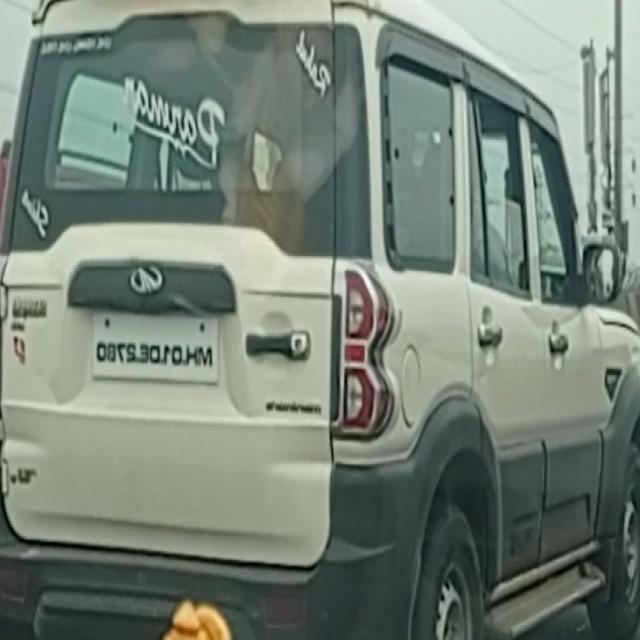license_plate: (89, 307, 222, 384)
